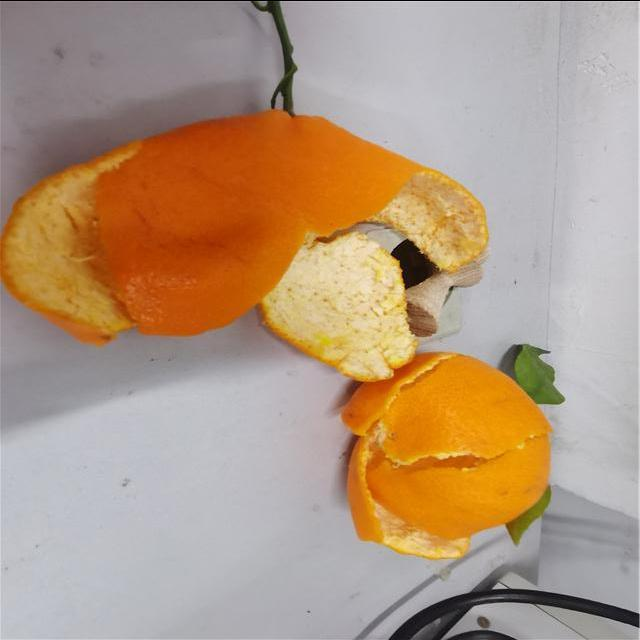orange peel: (0, 111, 491, 383), (338, 348, 552, 558)
